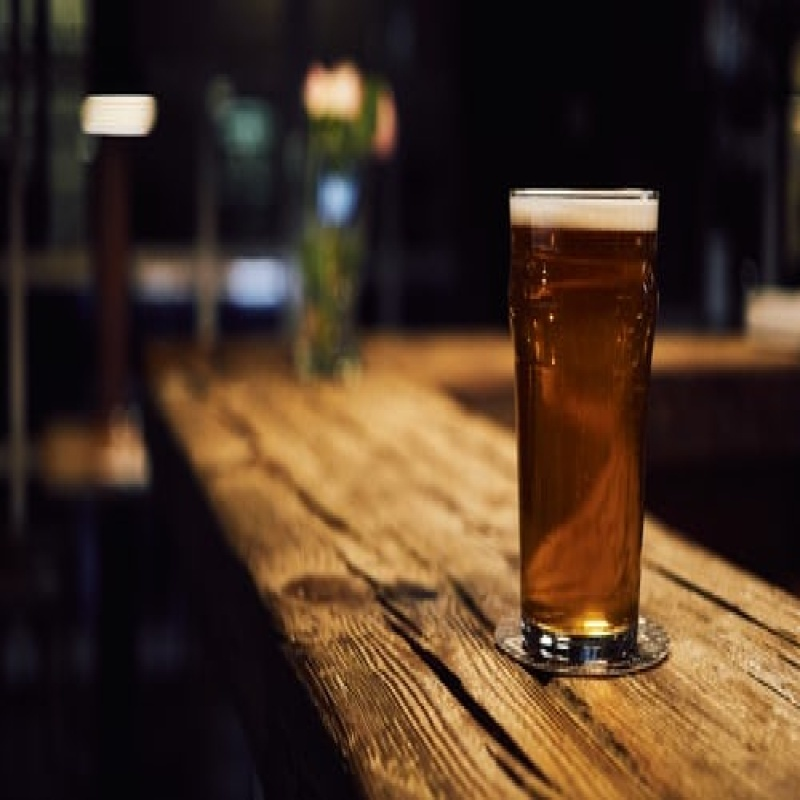whiskey: (503, 182, 660, 661)
